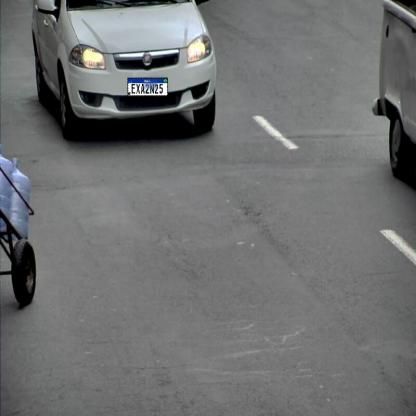PlacaM: (127, 78, 168, 96)
